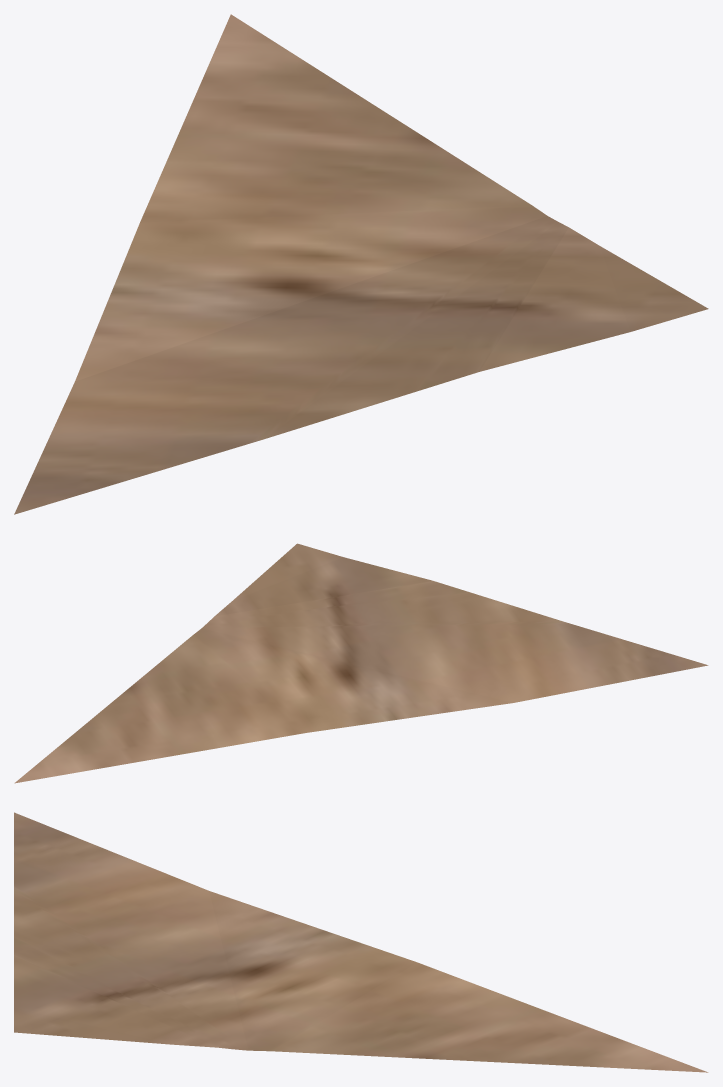
3 renders of one model, top to bottom at view 1: azimuth 30°, elevation 25°; view 2: azimuth 150°, elevation 25°; view 3: azimuth 270°, elevation 25°, orthographic. The views are drawn at different scales.
Bounding box in the file's own units: 0.6828 × 0.0518 × 0.8136.
Materials: 1 (1 with a texture image).
